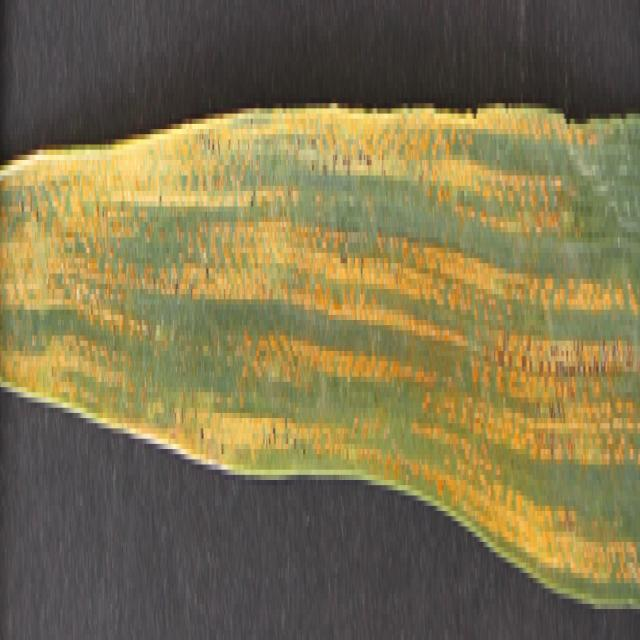leaf rust: (0, 87, 638, 594)
